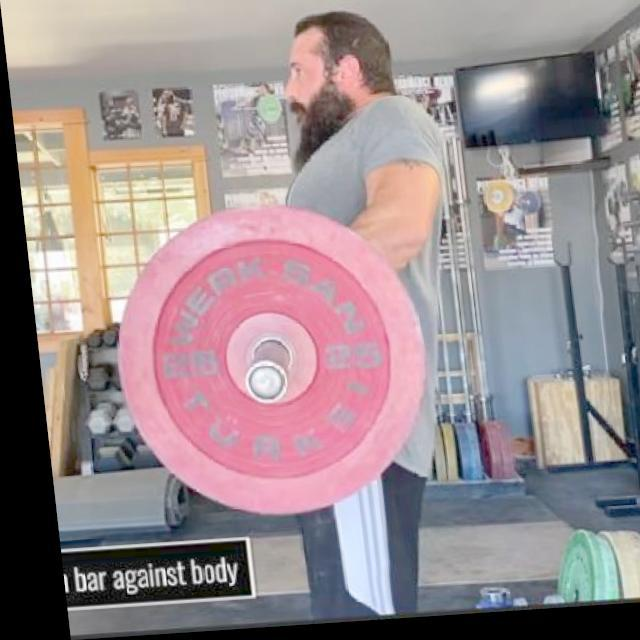barbell: (92, 193, 437, 536)
